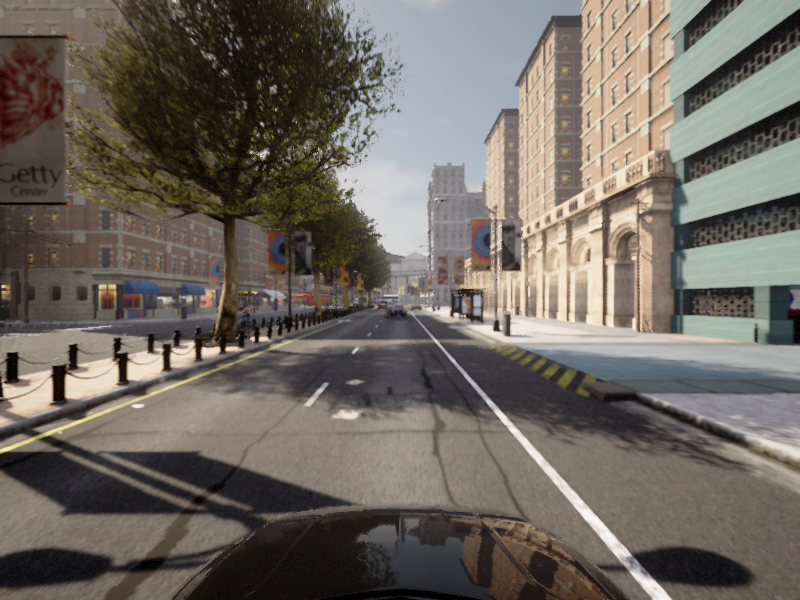vehicle: (235, 304, 255, 327), (217, 304, 239, 322), (385, 305, 407, 318)
